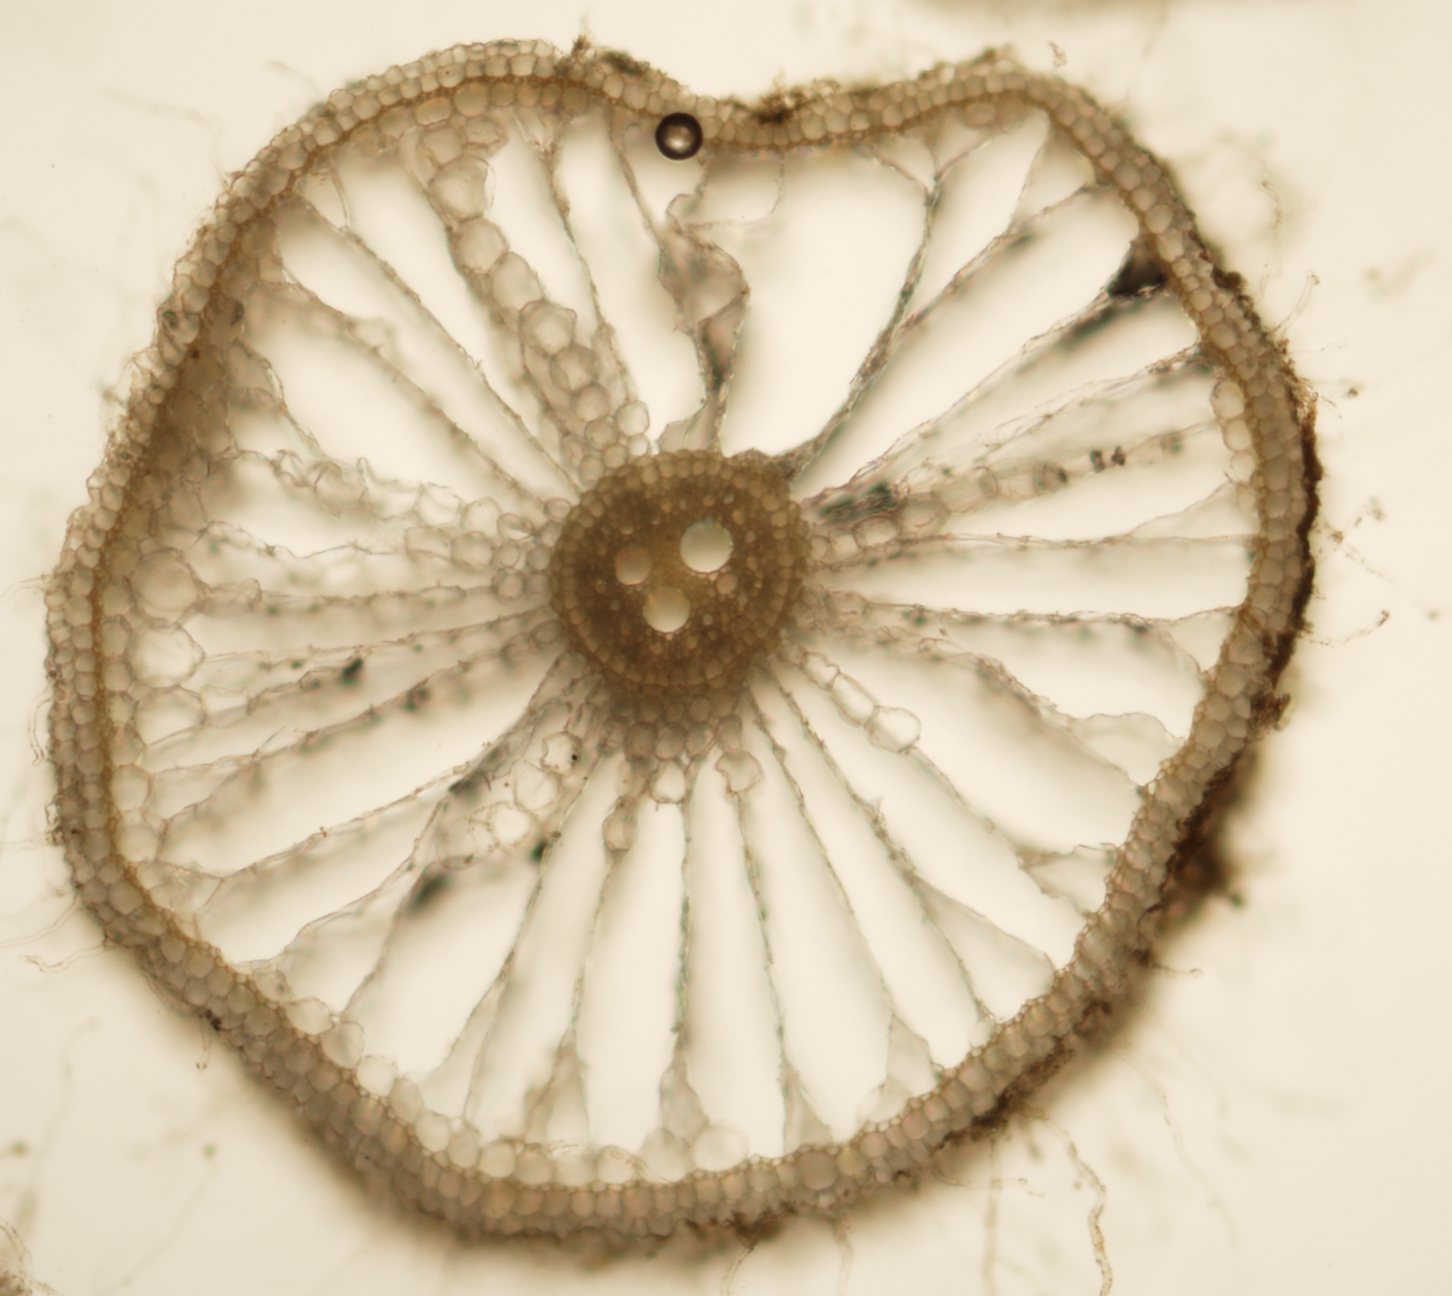lm: (679, 520, 734, 573), (642, 584, 692, 632), (614, 543, 653, 584)
